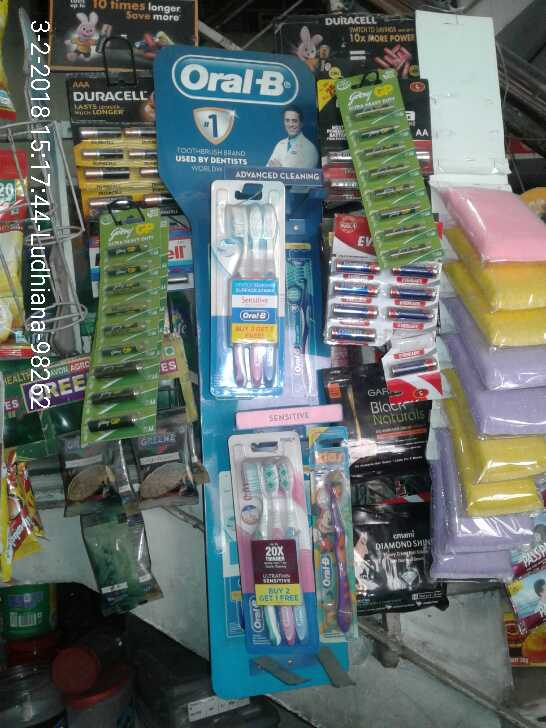oralb: (216, 189, 289, 391), (237, 451, 306, 652), (315, 464, 358, 631)
